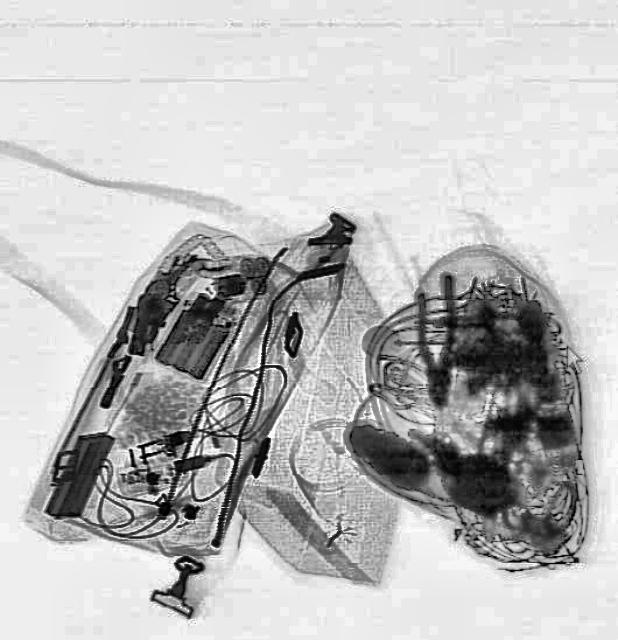Pliers: (412, 273, 462, 411)
